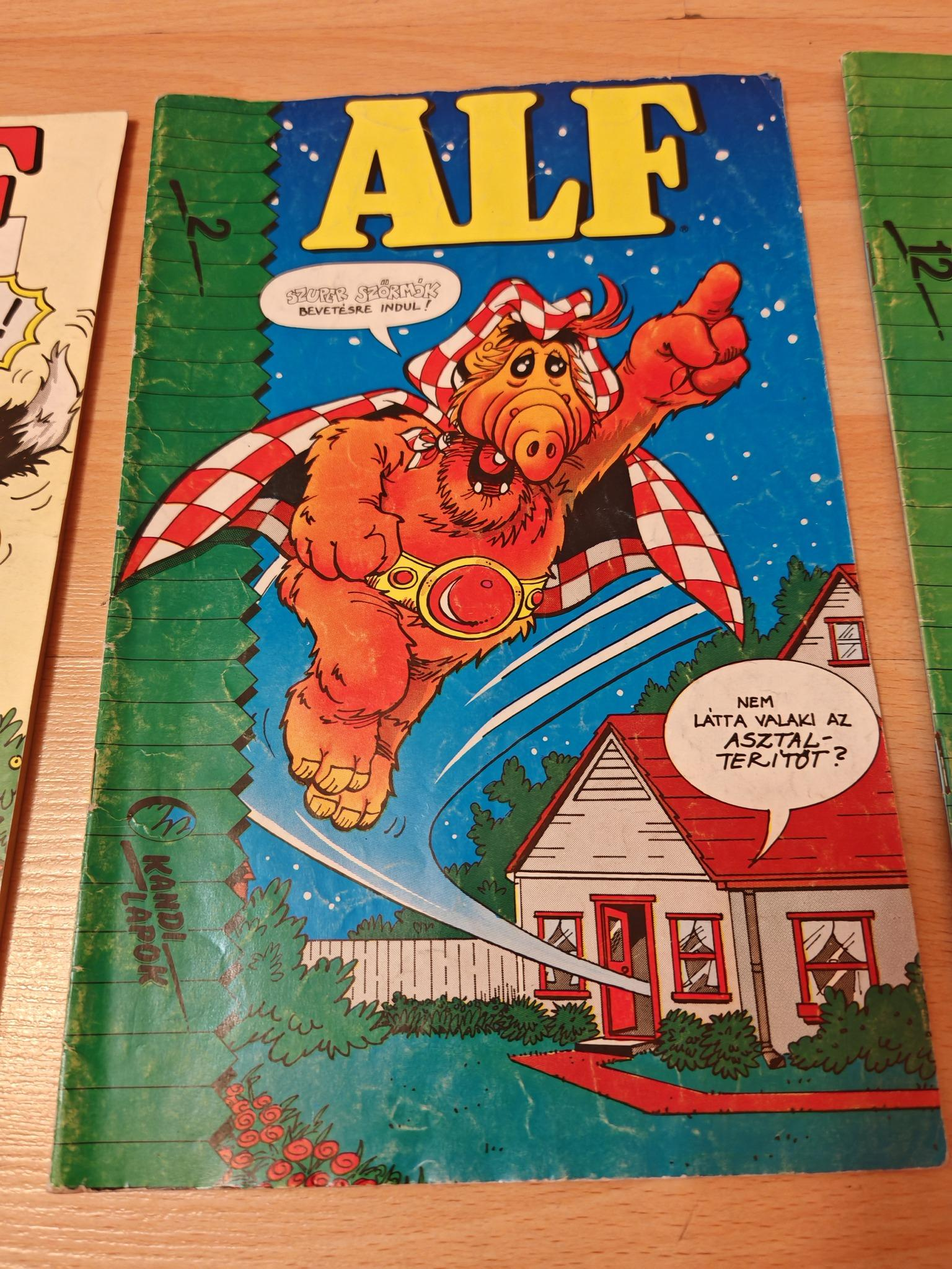comic: (14, 70, 944, 1197)
